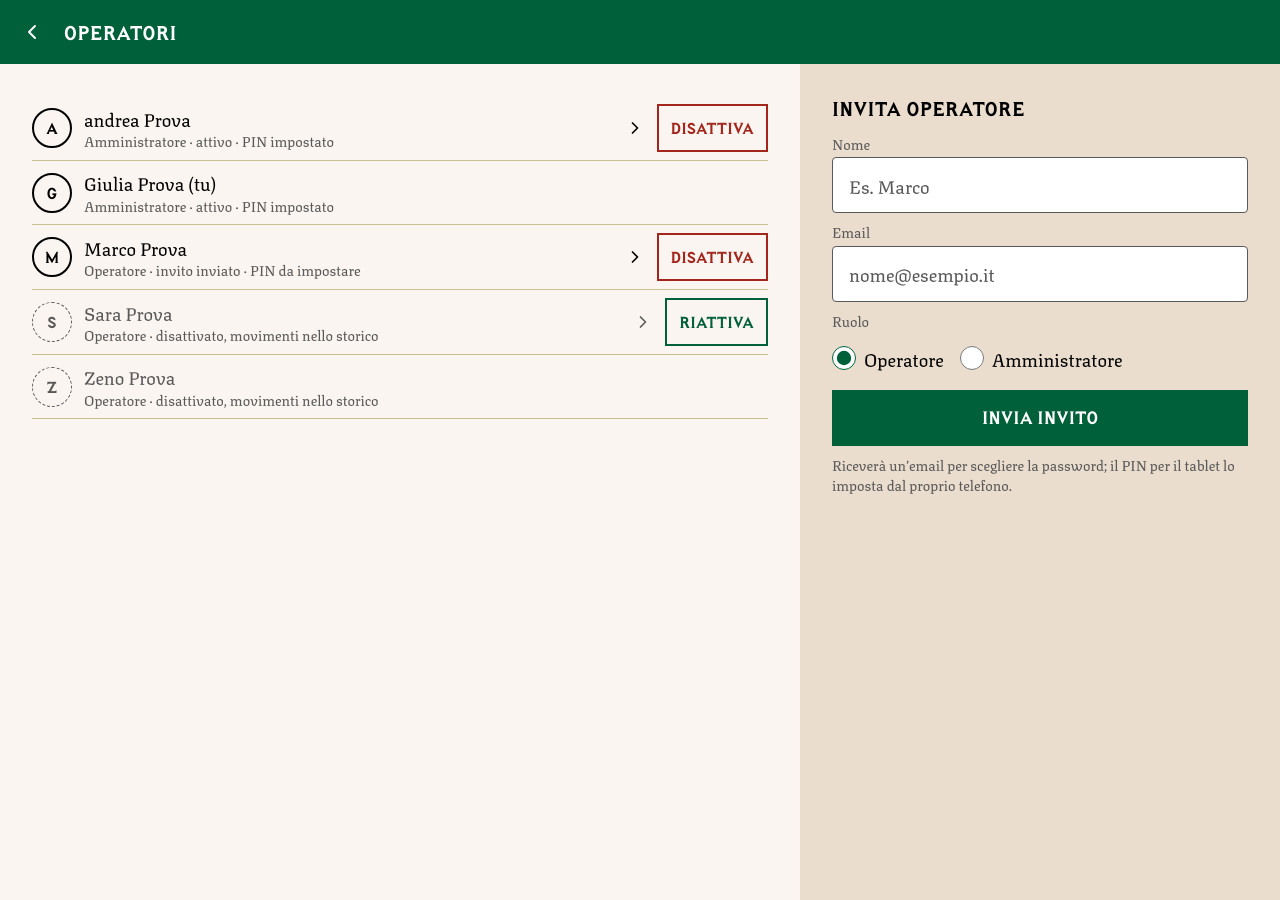
Test: OperatorsPage: Disattiva e Riattiva › deactivates after the confirmation: outcome in the live region, list asked again
Click the 1st button "Disattiva". click: click(712, 128)
box: [656,104,768,152]
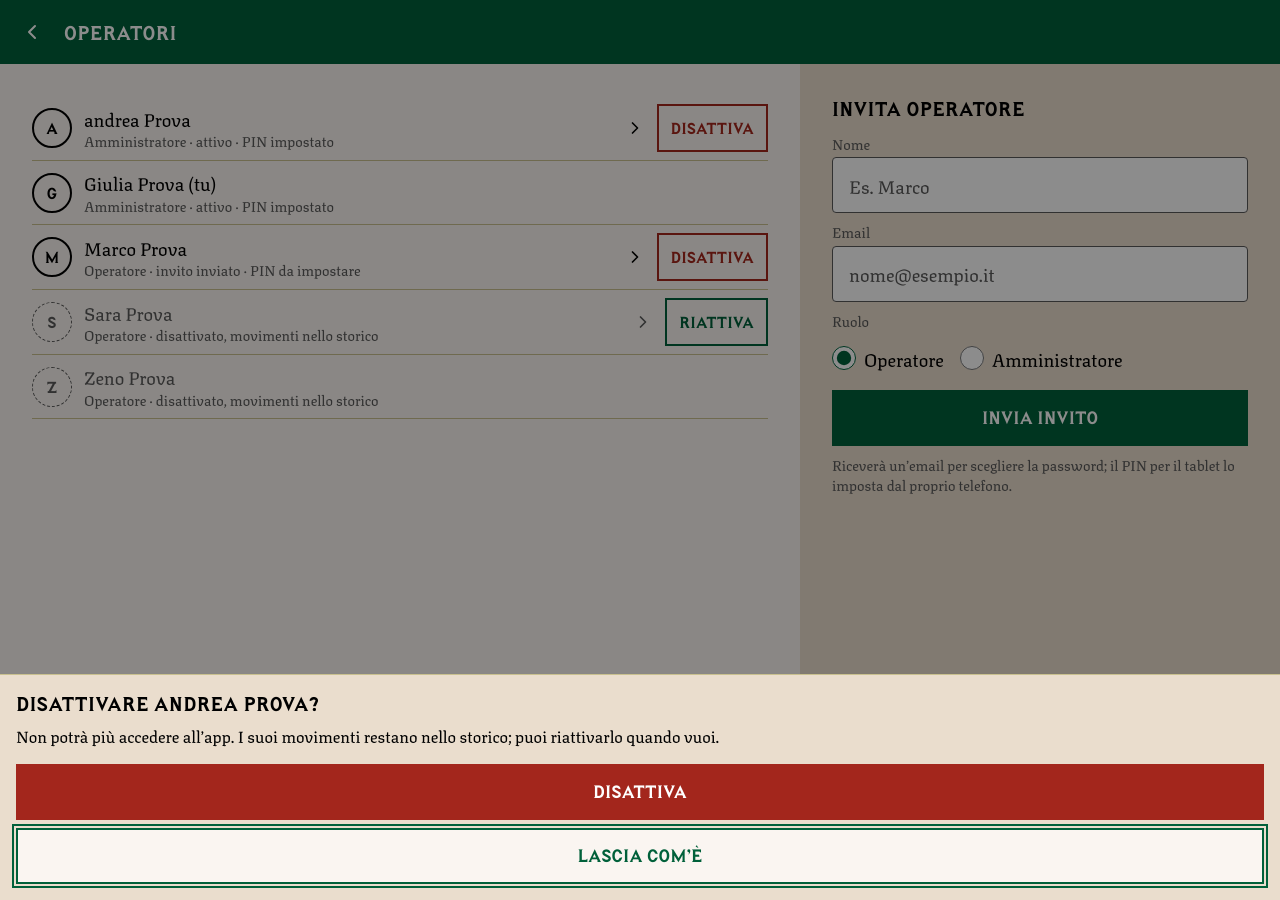
Expected: the heading "Disattivare andrea Prova?" is shown, [16,692,319,715]
Click the button "Disattiva". click: click(640, 792)
box: [16,764,1264,820]
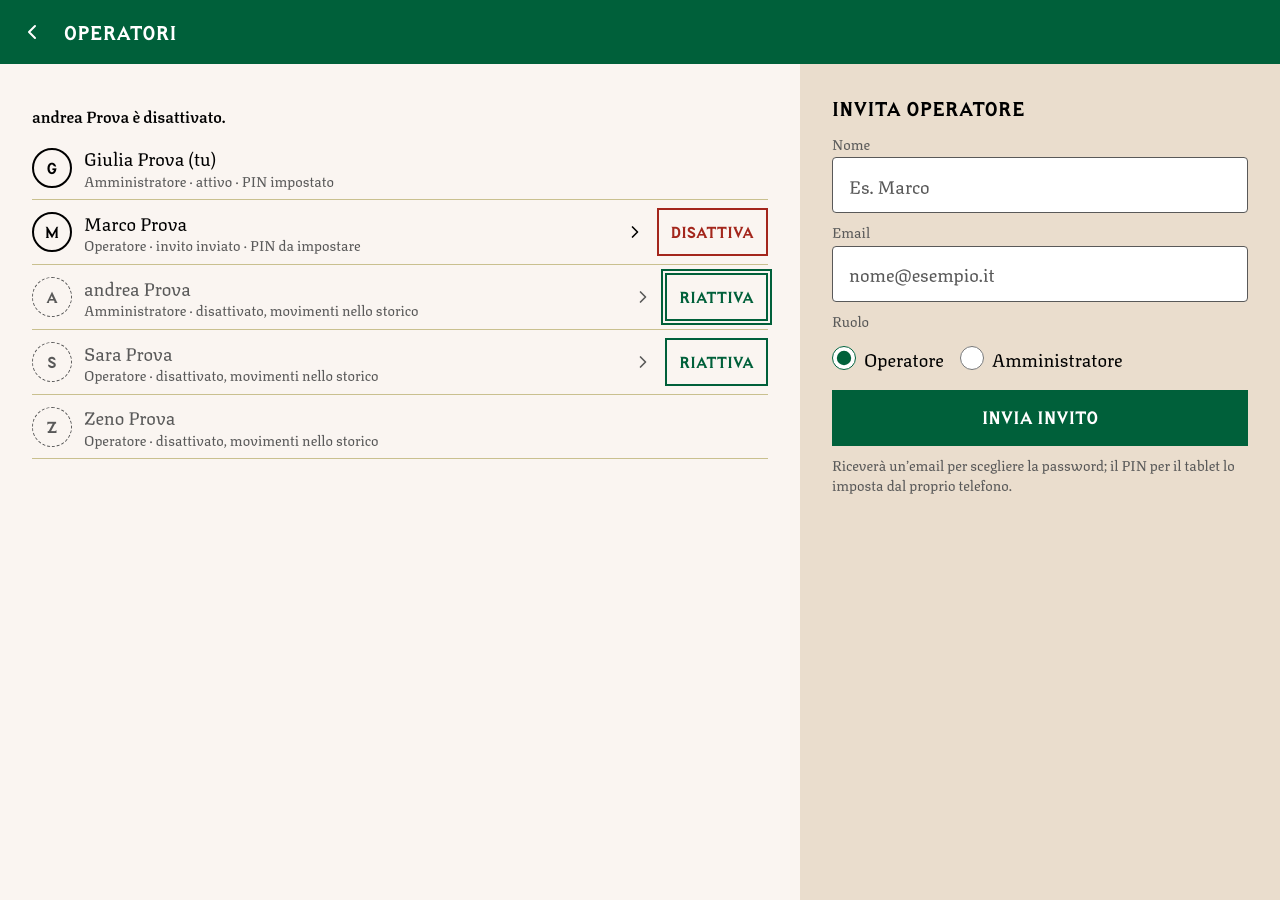
Expected: the text "andrea Prova è disattivato." is shown, [32,103,226,128]
Expected: the dialog is gone
Expected: the list item that starts with "andrea Prova" shows "Amministratore · disattivato, movimenti nello storico", [84,273,653,321]
